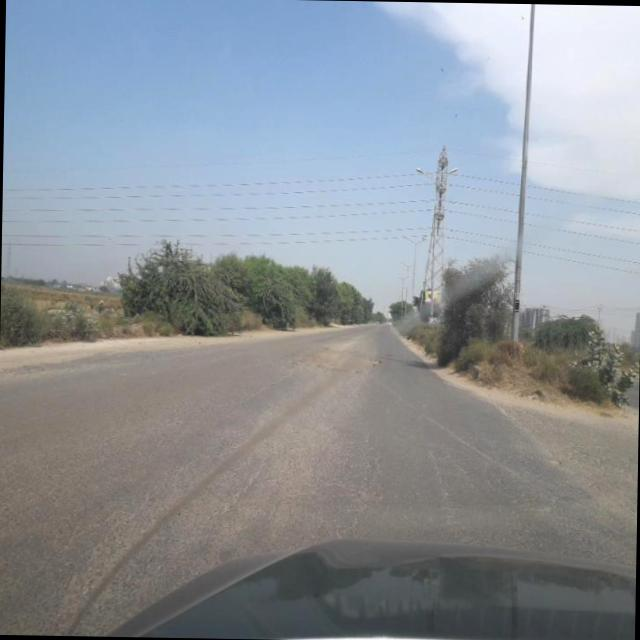pothole: (199, 445, 276, 535)
